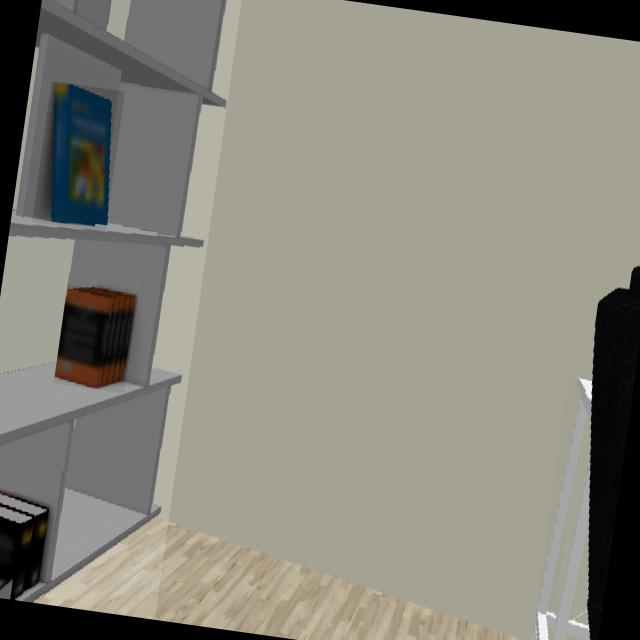book: (48, 82, 113, 229), (54, 287, 136, 390), (0, 490, 50, 600)
chair: (587, 270, 640, 640)
shelf: (0, 0, 227, 603)
table: (532, 379, 593, 640), (554, 467, 591, 640)
